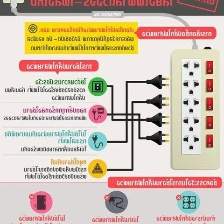three_eye_plug: (168, 46, 222, 171)
